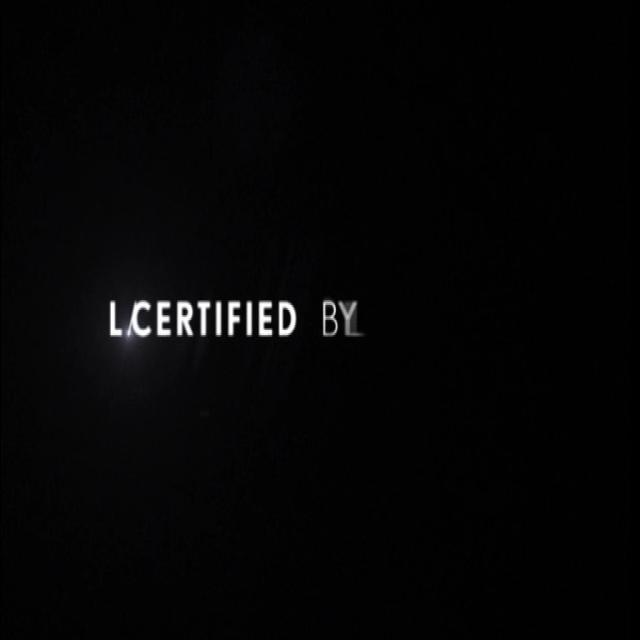Background Image: (1, 1, 637, 636)
Testimonial Quotes: (105, 294, 366, 344)
